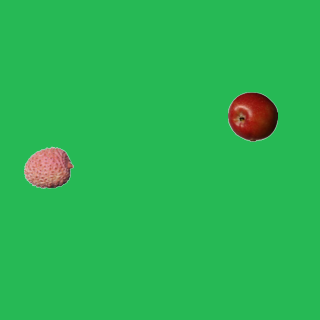Apple Braeburn: (227, 91, 277, 141)
Lychee: (23, 142, 73, 192)
